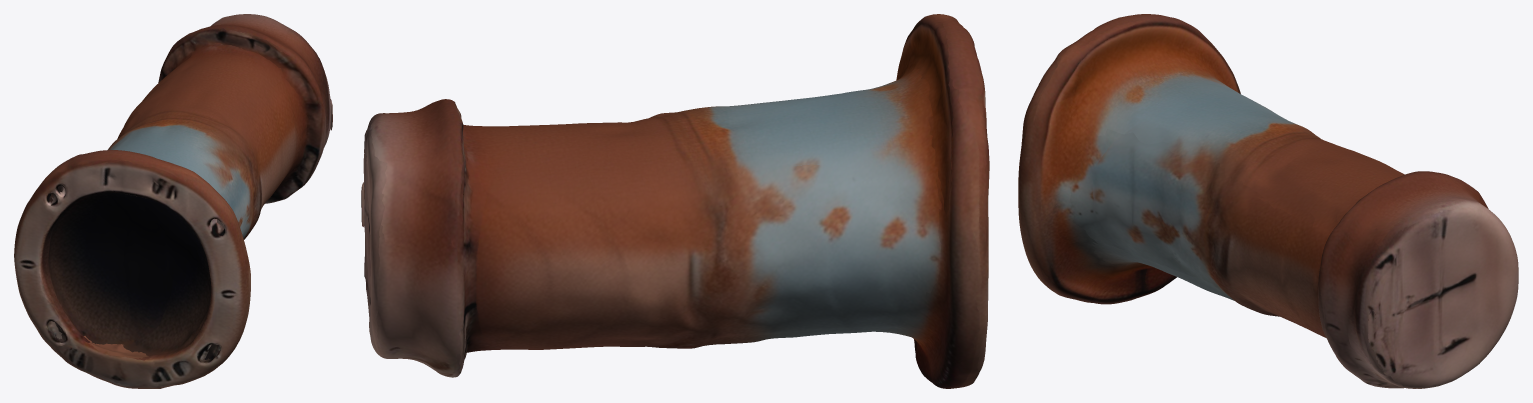
Rendered from pipe1.fbx.
The picture shows the model from 3 angles, left to right: view 1: azimuth 30°, elevation 25°; view 2: azimuth 150°, elevation 25°; view 3: azimuth 270°, elevation 25°; orthographic projection. The views are drawn at different scales.
Visible parts, largest first — view 1: tmp9kxf5e28.ply; view 2: tmp9kxf5e28.ply; view 3: tmp9kxf5e28.ply.
Part boxes in pixels (bbox=[...]): tmp9kxf5e28.ply: bbox=[14, 14, 332, 388]; tmp9kxf5e28.ply: bbox=[361, 14, 989, 388]; tmp9kxf5e28.ply: bbox=[1018, 14, 1518, 388].
Size of the model in its own units: 99.91 by 59.51 by 98.84.
1 material, 1 textured.
